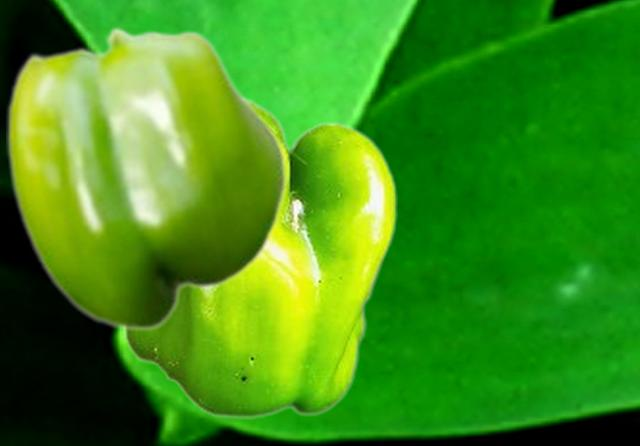bell_pepper: (122, 95, 396, 418), (6, 26, 287, 331)
